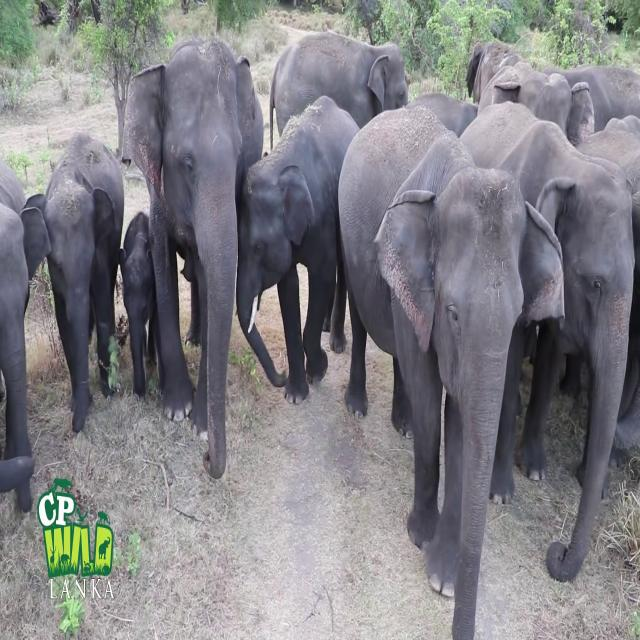Elephant: (370, 130, 565, 639), (458, 99, 636, 582), (121, 35, 264, 479), (336, 104, 464, 440), (235, 94, 361, 405), (42, 130, 124, 432), (269, 29, 408, 151), (118, 210, 160, 400)
